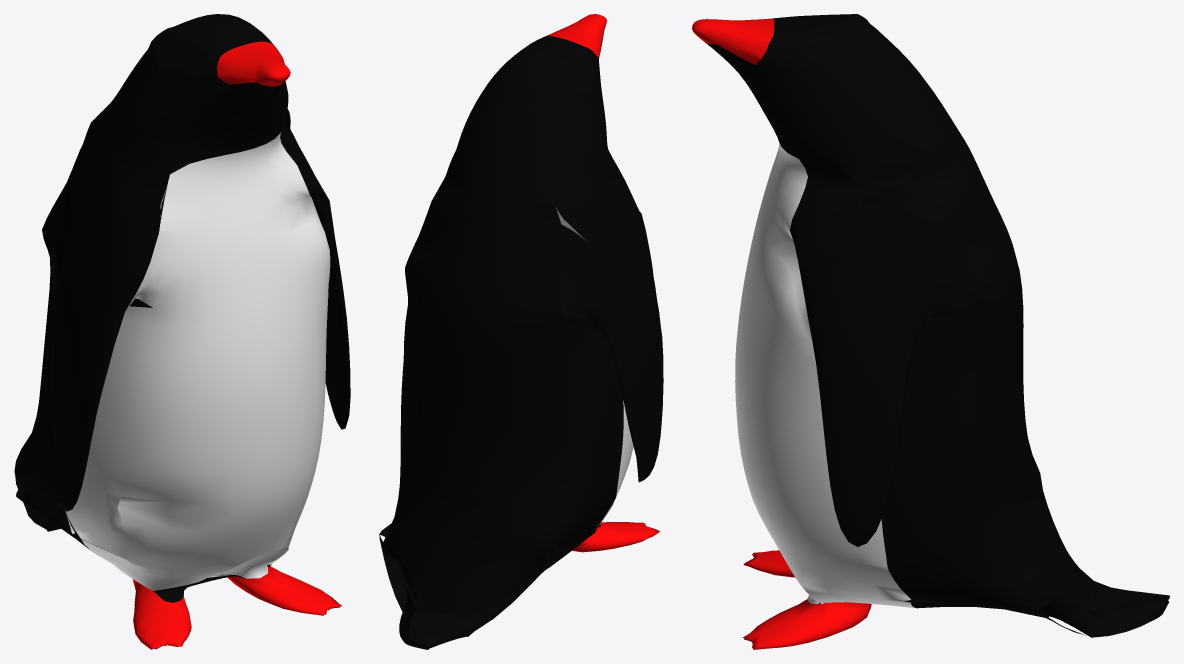
File: pen.fbx
3 views of the same model, side by side, from view 1: azimuth 30°, elevation 25°; view 2: azimuth 150°, elevation 25°; view 3: azimuth 270°, elevation 25° (orthographic). The views are drawn at different scales.
Visible parts, largest first — view 1: penguin; view 2: penguin; view 3: penguin.
Boxes of the visible parts, x1,y1,x2,y2 form: penguin: (14, 14, 350, 649); penguin: (379, 14, 663, 649); penguin: (692, 14, 1169, 649).
Size of the model in its own units: 255 by 518 by 373.
